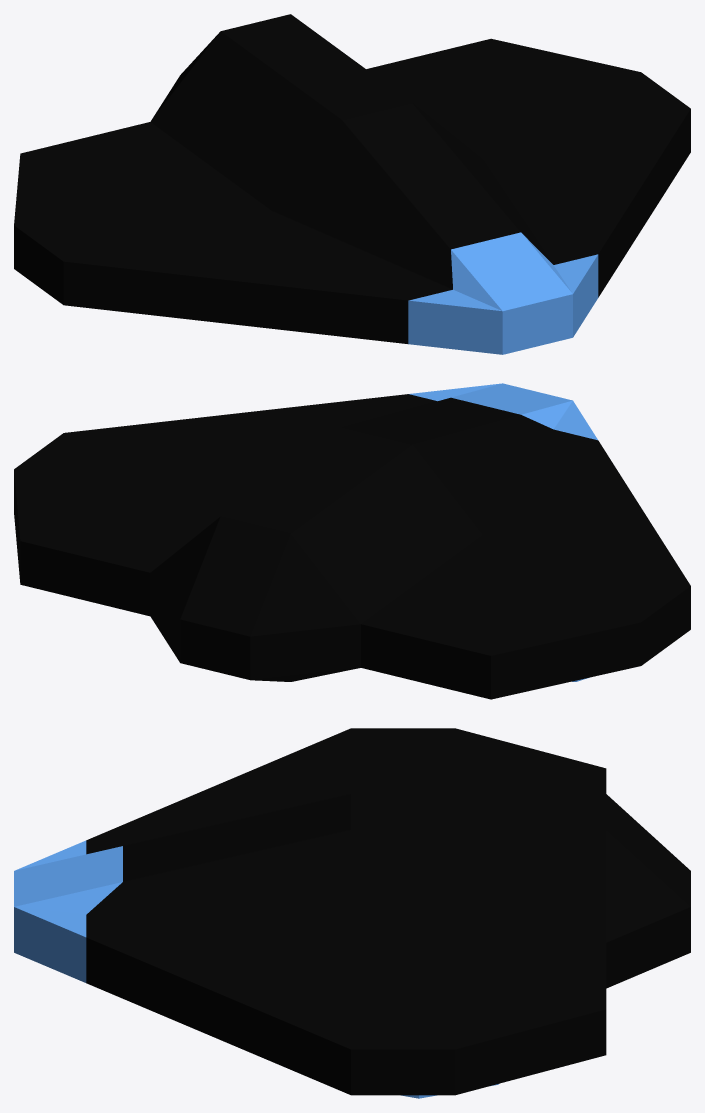
Rendered from Anti-Gravity Drone1.fbx.
The picture shows the model from 3 angles, top to bottom: view 1: azimuth 30°, elevation 25°; view 2: azimuth 150°, elevation 25°; view 3: azimuth 270°, elevation 25°; orthographic projection. The views are drawn at different scales.
Visible parts, largest first — view 1: Cube.001; view 2: Cube.001; view 3: Cube.001.
Part boxes in pixels (x1,y1,x2,y2): Cube.001: [14, 14, 690, 354]; Cube.001: [14, 383, 690, 699]; Cube.001: [14, 728, 690, 1095].
Size of the model in its own units: 596 by 135 by 530.
